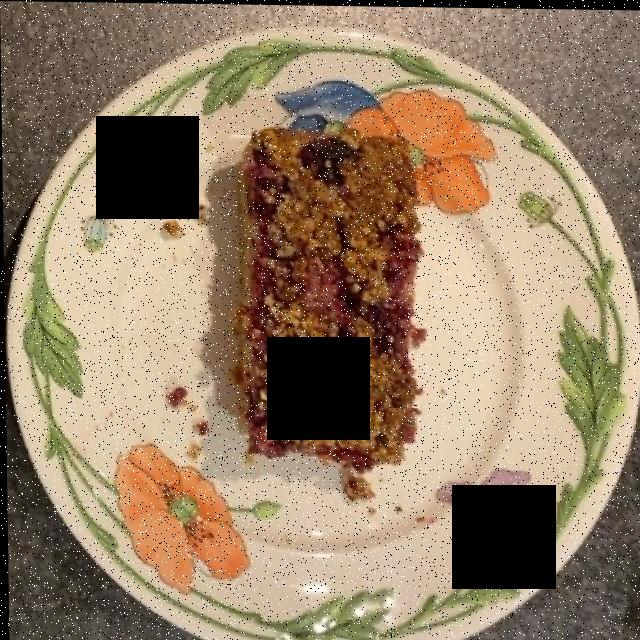tart: (232, 118, 419, 460)
